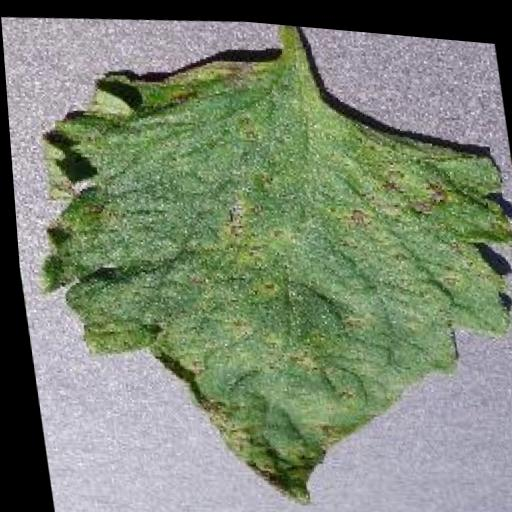Septoria: (5, 21, 512, 512)
